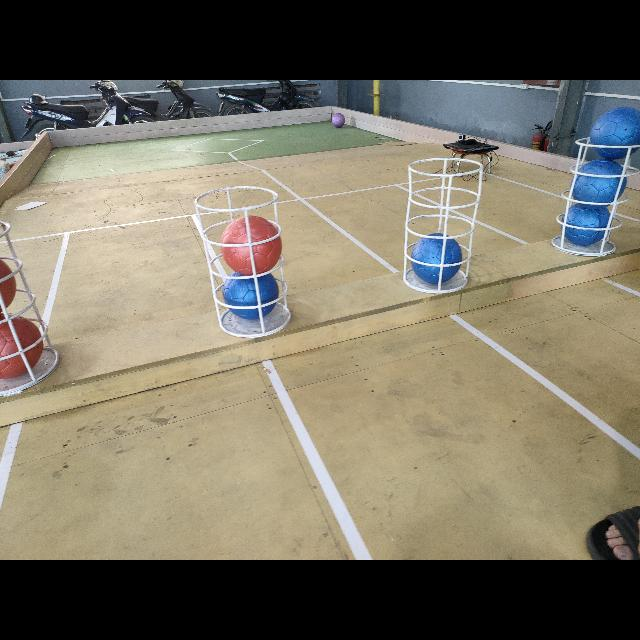B: (220, 268, 278, 316), (592, 106, 640, 164), (572, 160, 630, 204), (414, 234, 464, 282), (560, 202, 610, 248)
R: (218, 216, 284, 274), (1, 318, 44, 380), (1, 250, 20, 312)
